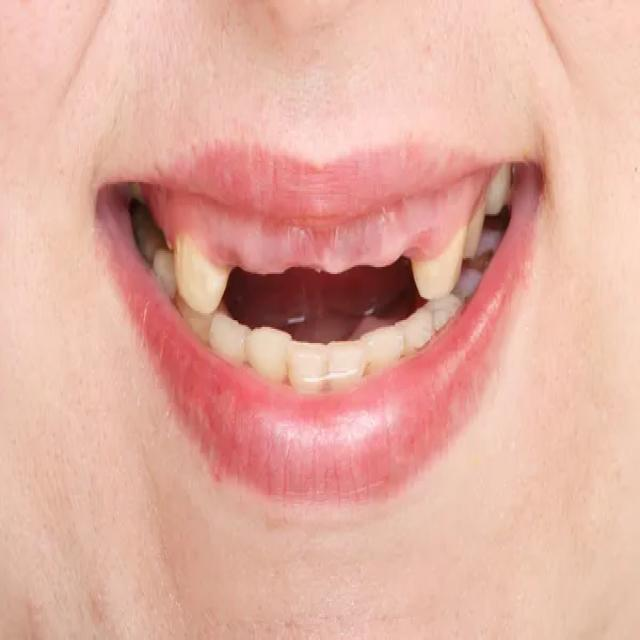Healthy: (284, 323, 370, 390), (372, 319, 439, 364)
Missing: (170, 246, 461, 313)
